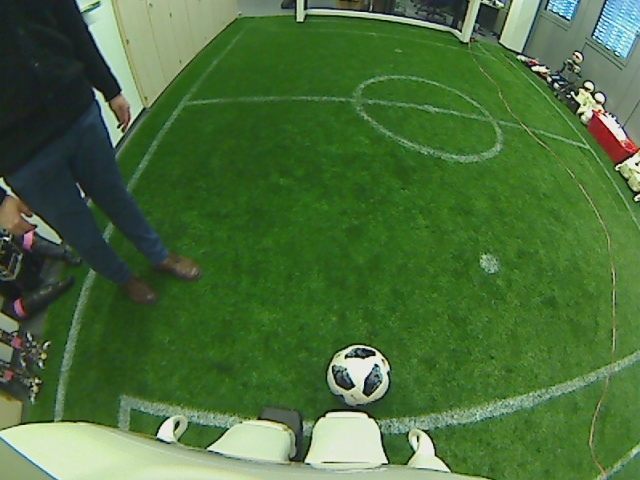ball: (325, 342, 392, 409)
